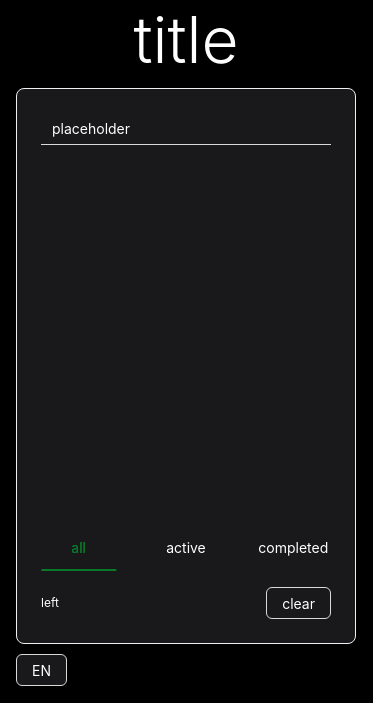
Test: App › adds new task on Enter
Type "Первая задача" into the field with test id "new-task-input".
click(186, 130); type("Первая задача")  # box [41,114,331,146]
Then press Enter
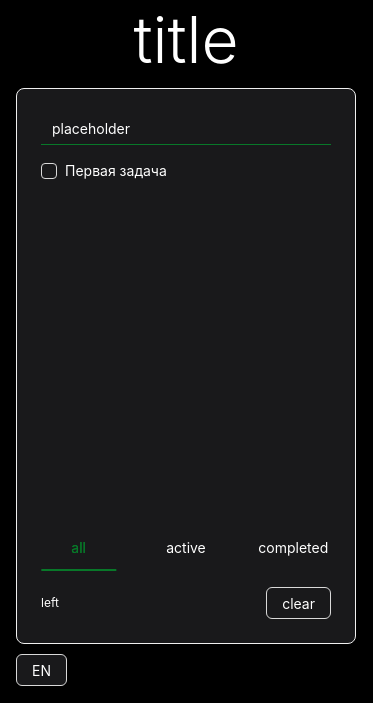
Now the text "Первая задача" is shown, box [65,162,167,180]
